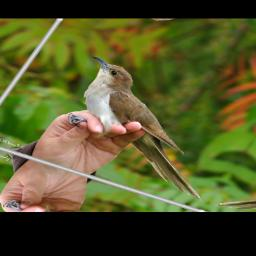Cuckoo: (27, 53, 256, 200)
